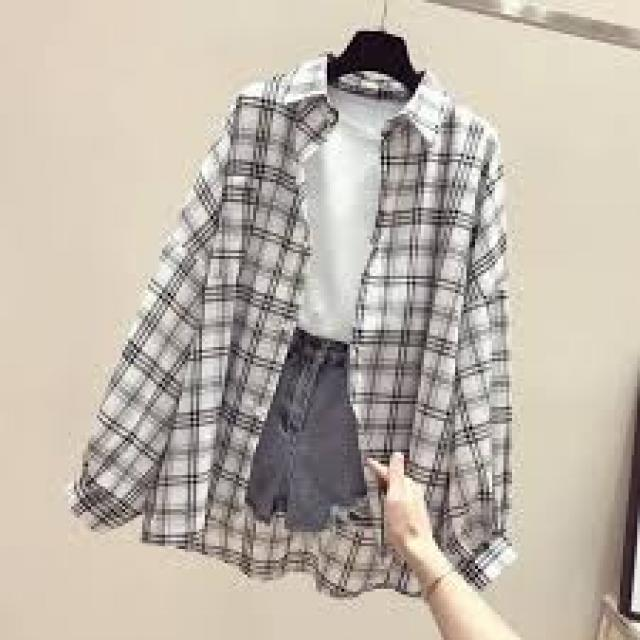plaid: (79, 72, 534, 598)
